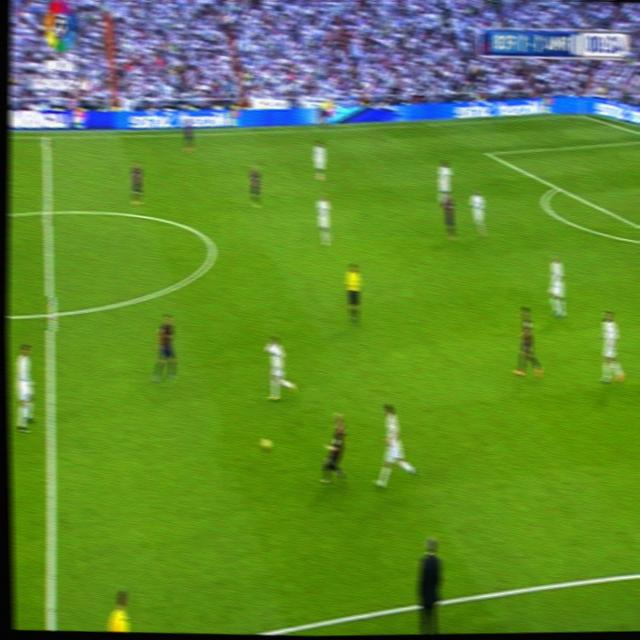bigarea_bottom_outter: (550, 179, 561, 194)
halfcircle_bottom: (40, 296, 57, 330)
halfcircle_top: (38, 195, 55, 224)
midline_top_intersection: (37, 130, 53, 146)
